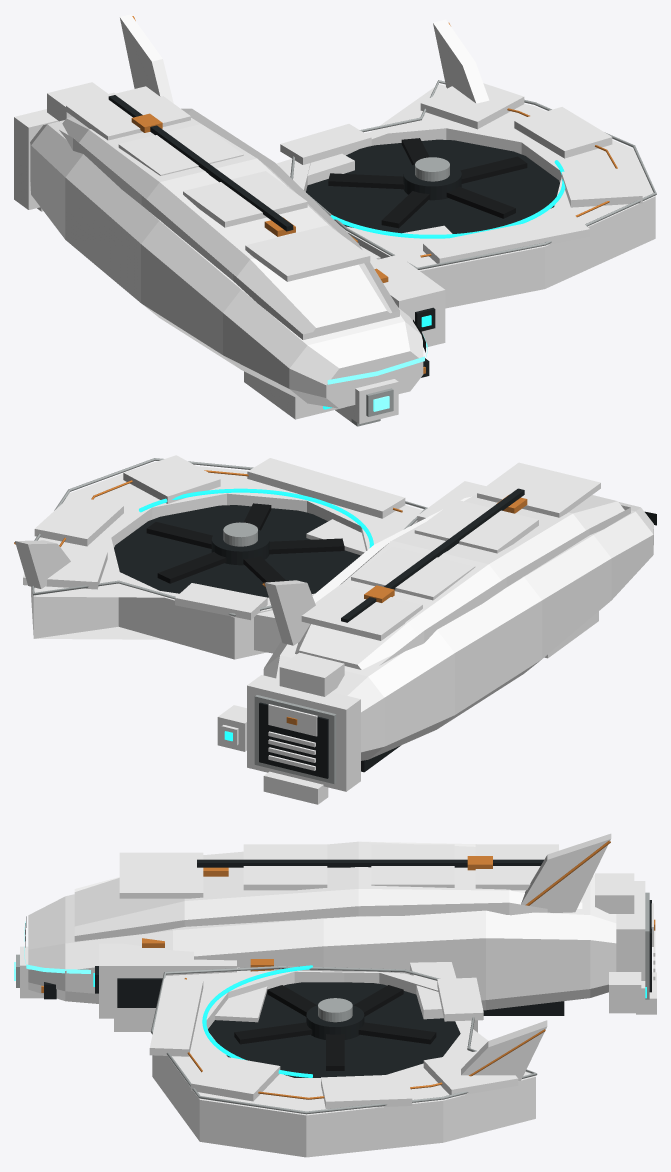
Rendered from morrowgear-family-a-guard-v2.glb.
3 views of the same model, one above another, from view 1: azimuth 30°, elevation 25°; view 2: azimuth 150°, elevation 25°; view 3: azimuth 270°, elevation 25° (orthographic).
Visible parts, largest first — view 1: F01_Fuselage, F02_UpperArmor, W02_DuctWing.R, R02_InnerWell.R, F02_TopPanel_0, W02_ArmorPanel_0.R, F02_TopPanel_1, F02_TopPanel_3, F02_TopPanel_2, GRD_ProtectiveShoulder.R, W02_ArmorPanel_2.R, W02_ArmorPanel_1.R (+18 smaller); view 2: F01_Fuselage, W02_DuctWing.R, F02_UpperArmor, R02_InnerWell.R, V01_RearHousing, W02_ArmorPanel_0.R, F02_TopPanel_0, F02_TopPanel_3, F02_TopPanel_1, F02_TopPanel_2, W02_ArmorPanel_2.R, W02_ArmorPanel_1.R (+22 smaller); view 3: F01_Fuselage, W02_DuctWing.R, F02_UpperArmor, R02_InnerWell.R, GRD_ProtectiveShoulder.R, F02_TopPanel_0, T02_CenterFin.R, F02_TopPanel_1, W02_ArmorPanel_0.R, F02_TopPanel_2, W02_ArmorPanel_2.R, W02_ArmorPanel_1.R (+25 smaller).
Boxes of the visible parts, x1,y1,x2,y2 form: F01_Fuselage: (30, 120, 423, 408); F02_UpperArmor: (59, 108, 399, 339); W02_DuctWing.R: (293, 84, 655, 308); R02_InnerWell.R: (306, 139, 559, 233); F02_TopPanel_0: (245, 225, 370, 281); W02_ArmorPanel_0.R: (423, 214, 589, 263); F02_TopPanel_1: (183, 171, 307, 227); F02_TopPanel_3: (66, 86, 190, 140); F02_TopPanel_2: (118, 124, 243, 175); GRD_ProtectiveShoulder.R: (370, 255, 445, 347); W02_ArmorPanel_2.R: (514, 107, 612, 158); W02_ArmorPanel_1.R: (561, 167, 642, 207); F01_Fuselage: (263, 502, 653, 760); W02_DuctWing.R: (31, 462, 422, 659); F02_UpperArmor: (295, 494, 630, 669); R02_InnerWell.R: (114, 505, 360, 597); V01_RearHousing: (247, 675, 360, 791); W02_ArmorPanel_0.R: (247, 458, 405, 518); F02_TopPanel_0: (477, 462, 600, 517); F02_TopPanel_3: (301, 584, 422, 640); F02_TopPanel_1: (414, 499, 538, 553); F02_TopPanel_2: (351, 546, 475, 600); W02_ArmorPanel_2.R: (34, 495, 123, 546); W02_ArmorPanel_1.R: (123, 455, 220, 503); F01_Fuselage: (28, 874, 616, 1010); W02_DuctWing.R: (152, 970, 535, 1157); F02_UpperArmor: (74, 841, 582, 941); R02_InnerWell.R: (208, 982, 460, 1077); GRD_ProtectiveShoulder.R: (99, 943, 193, 1018); F02_TopPanel_0: (119, 852, 203, 898); T02_CenterFin.R: (521, 833, 611, 912); F02_TopPanel_1: (243, 844, 327, 890); W02_ArmorPanel_0.R: (149, 978, 203, 1056); F02_TopPanel_2: (371, 844, 454, 887); W02_ArmorPanel_2.R: (321, 1074, 412, 1108); W02_ArmorPanel_1.R: (191, 1055, 280, 1101).
Size of what is drawn, in the model's own units: 4.8 by 2.39 by 5.55.
